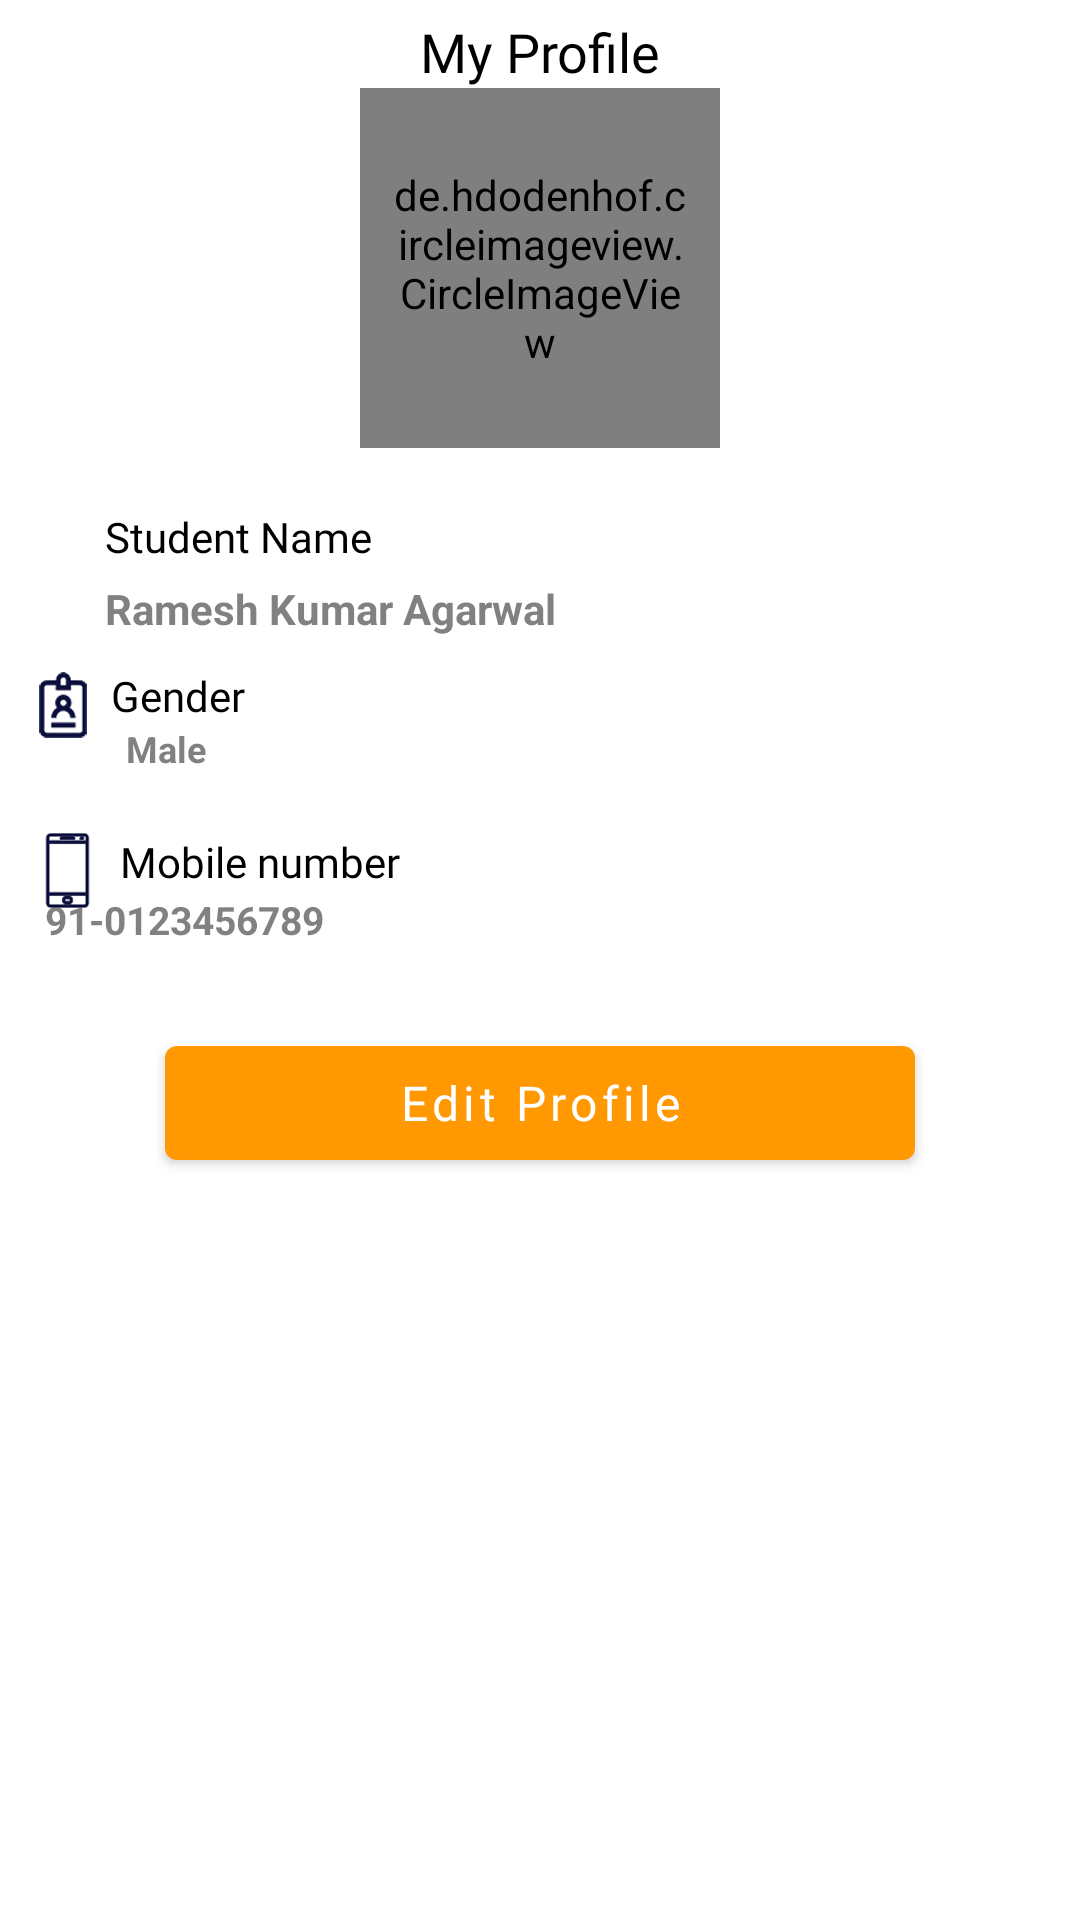

Named icons in this screenshot (1080x1920) and their bounding boxes, {"x1": x1, "y1": y1, "x2": x2, "y2": y2}:
mobilenew: {"x1": 45, "y1": 833, "x2": 90, "y2": 908}
pronew: {"x1": 39, "y1": 672, "x2": 87, "y2": 738}
